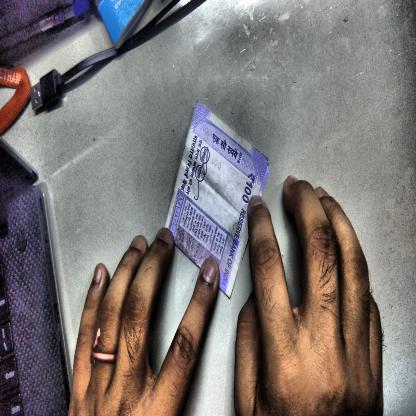Rs100: (239, 167, 259, 208)
